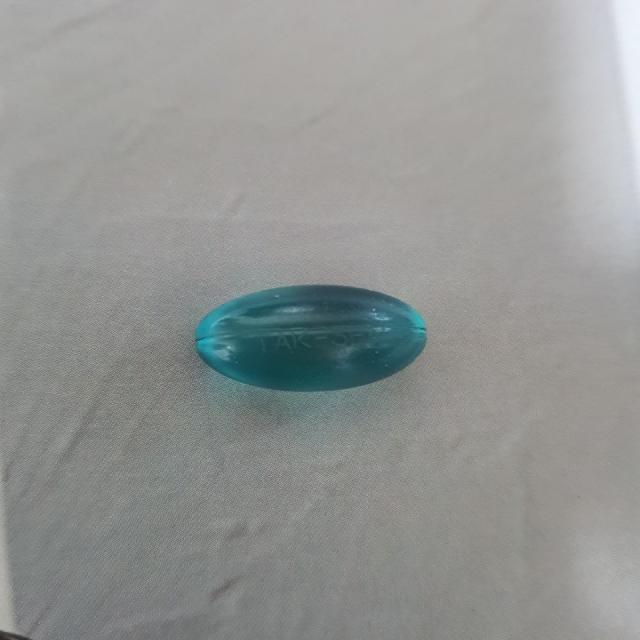pill: (188, 268, 438, 407)
